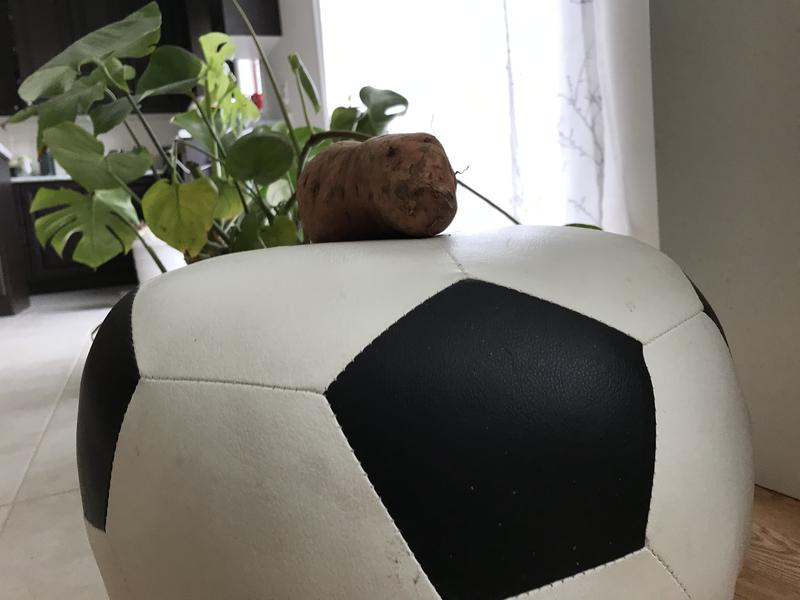sweet_potato: (288, 130, 469, 252)
